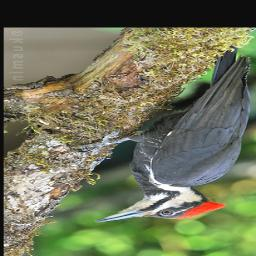Woodpecker: (73, 44, 256, 224)
